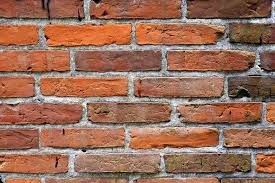brick: (74, 154, 162, 176), (37, 77, 128, 98), (135, 21, 216, 44), (74, 50, 160, 71), (133, 77, 223, 97), (44, 25, 133, 45), (167, 49, 251, 70), (167, 153, 252, 173), (89, 1, 183, 19), (185, 1, 273, 20), (131, 128, 218, 146), (1, 104, 82, 123), (87, 104, 172, 122), (1, 50, 69, 72), (178, 105, 261, 123), (43, 130, 124, 147), (1, 155, 68, 174), (223, 128, 275, 147), (229, 77, 275, 98), (230, 23, 275, 44), (1, 24, 40, 46), (1, 1, 48, 19), (1, 128, 37, 149), (1, 77, 34, 98), (48, 1, 86, 19), (256, 155, 275, 173)
